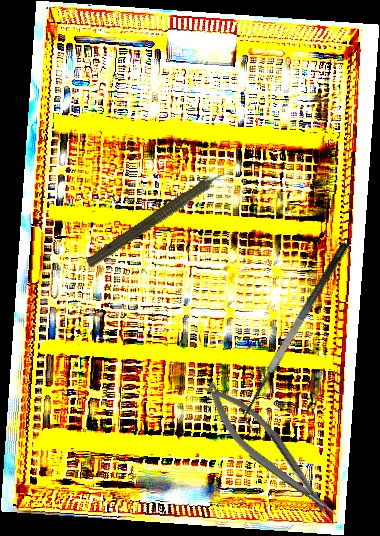Handpiece: (83, 158, 241, 275)
Needle Holder: (194, 370, 344, 534)
Spatula Surgical: (230, 239, 365, 433)
